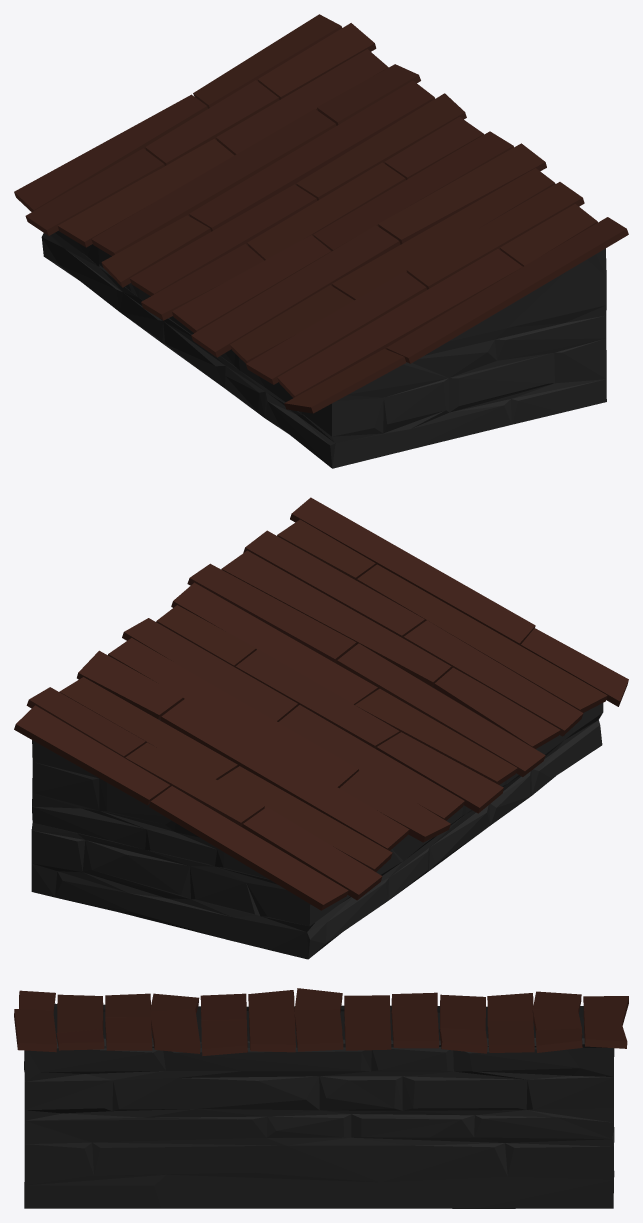
Rendered from roof_building_10.FBX.
3 renders of one model, top to bottom at view 1: azimuth 30°, elevation 25°; view 2: azimuth 150°, elevation 25°; view 3: azimuth 270°, elevation 25°, orthographic.
Parts seen in each view (by area): view 1: roof_building_10; view 2: roof_building_10; view 3: roof_building_10.
Part boxes in pixels (x1,y1,x2,y2): roof_building_10: (14,14,628,468); roof_building_10: (14,497,628,959); roof_building_10: (14,988,628,1208).
Bounding box in the file's own units: 270 × 132 × 417.
